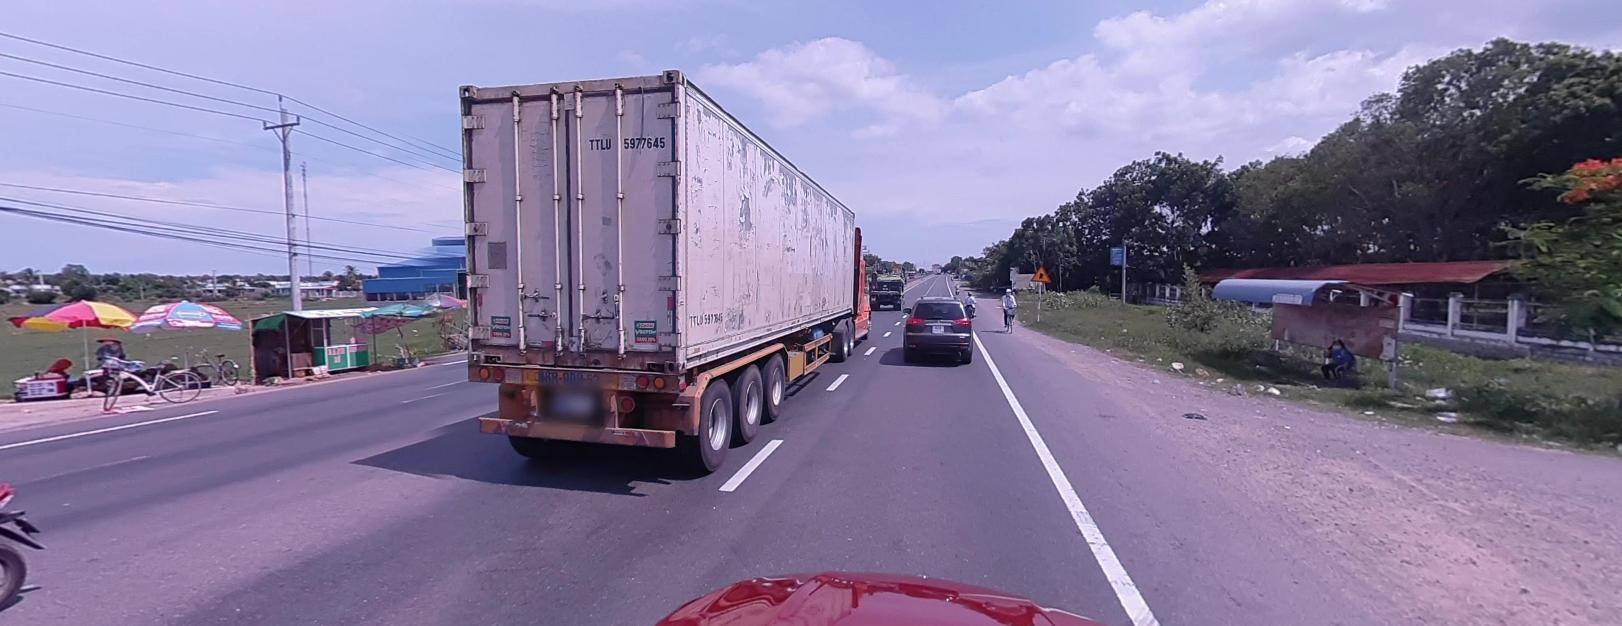Nguy hiem: (1031, 265, 1050, 281)
